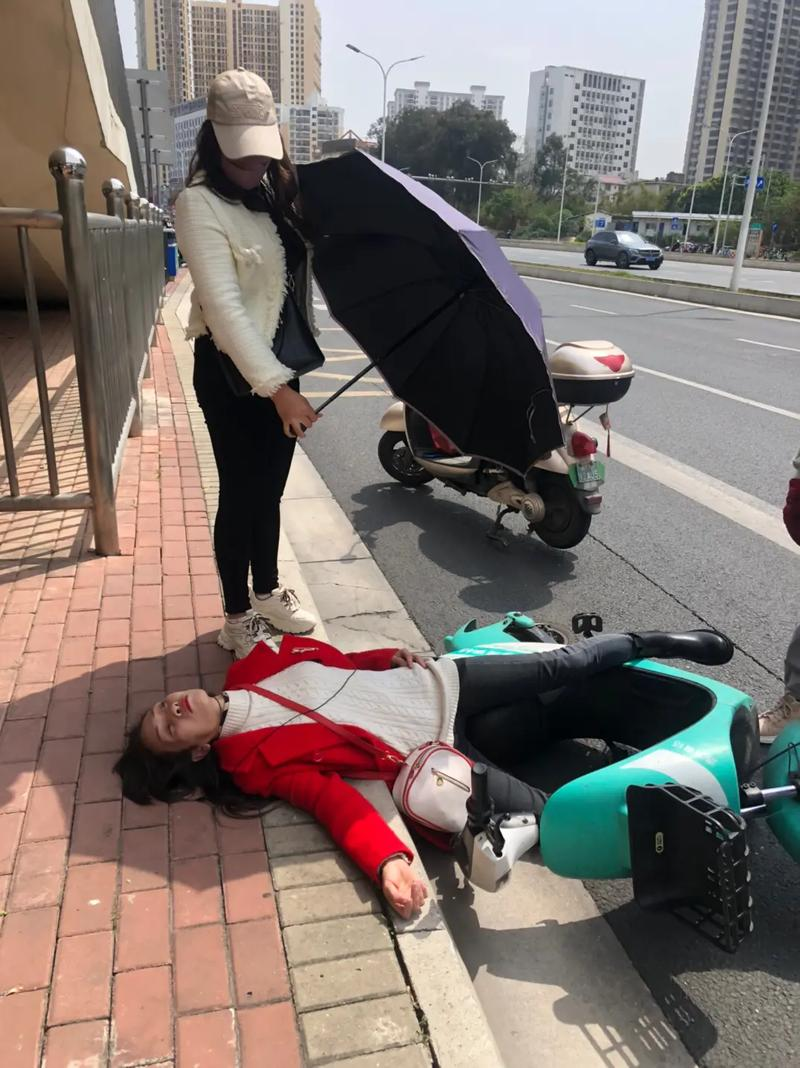down: (108, 609, 726, 914)
